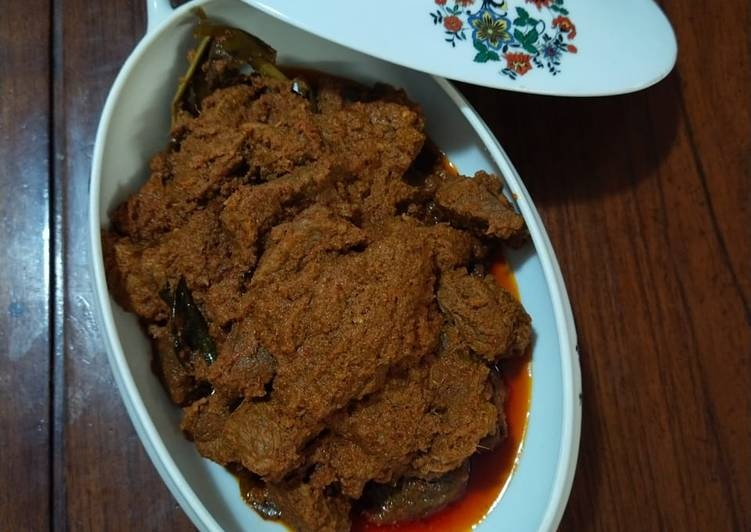Rendang: (100, 44, 538, 531)
